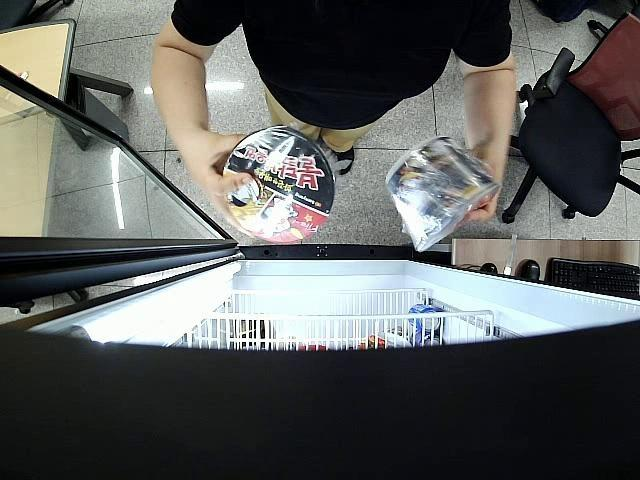07_buldak_L: (388, 135, 497, 252), (226, 128, 333, 243)
